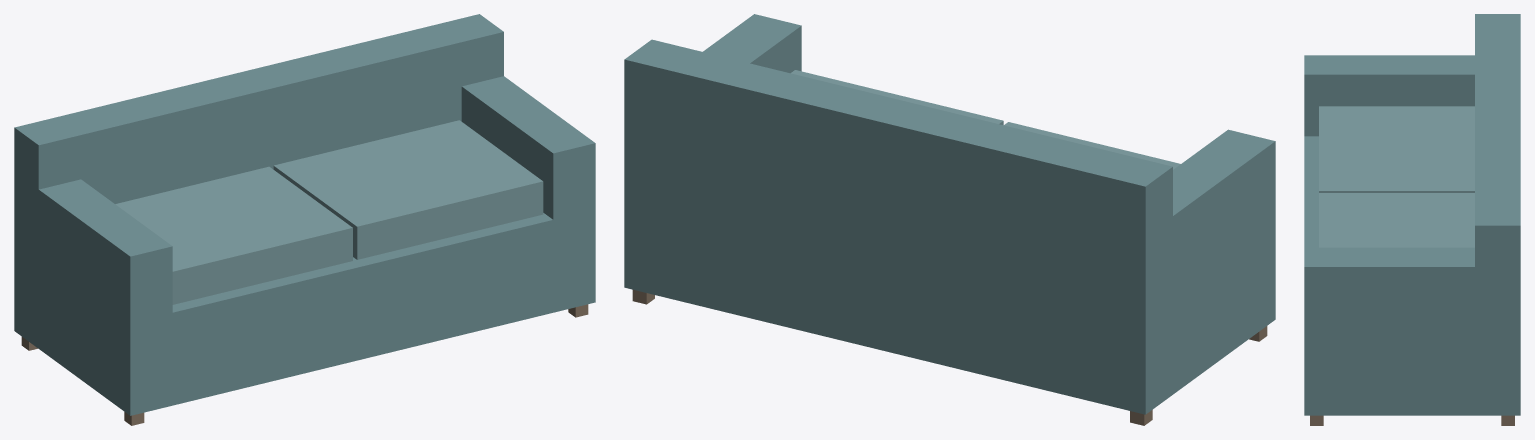
The model's file is demo-sofa-glb.glb.
3 renders of one model, left to right at view 1: azimuth 30°, elevation 25°; view 2: azimuth 150°, elevation 25°; view 3: azimuth 270°, elevation 25°, orthographic. The views are drawn at different scales.
Parts seen in each view (by area): view 1: geometry_0; view 2: geometry_0; view 3: geometry_0.
Part boxes in pixels (left/top/right/bottom): geometry_0: left=14, top=14, right=595, bottom=425; geometry_0: left=624, top=14, right=1275, bottom=425; geometry_0: left=1304, top=14, right=1520, bottom=425.
Size of the model in its own units: 2200 by 980 by 950.
